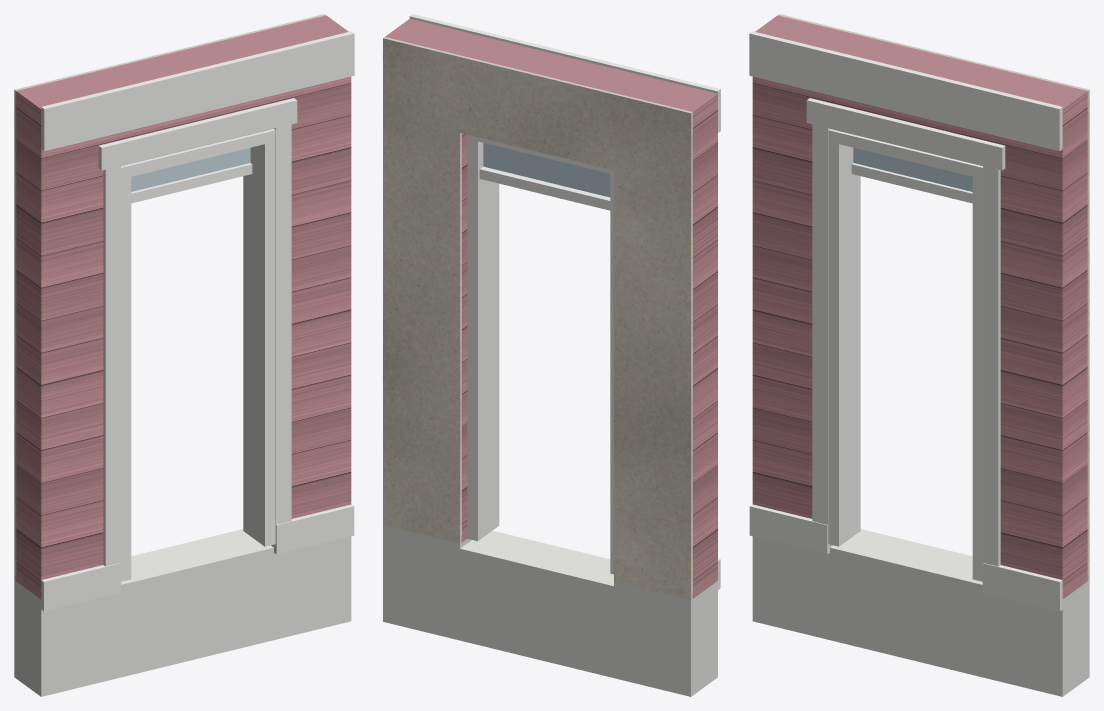
Rendered from wall_a_door_back.glb.
3 renders of one model, left to right at view 1: azimuth 30°, elevation 25°; view 2: azimuth 150°, elevation 25°; view 3: azimuth 330°, elevation 25°, orthographic.
Visible parts, largest first — view 1: wall_a_door_back_siding_a, wall_a_door_back_trim, wall_a_door_back_lattice, wall_a_door_back_frame, wall_a_door_back_plaster, wall_a_door_back_glass; view 2: wall_a_door_back_plaster, wall_a_door_back_lattice, wall_a_door_back_siding_a, wall_a_door_back_frame, wall_a_door_back_glass, wall_a_door_back_trim; view 3: wall_a_door_back_siding_a, wall_a_door_back_trim, wall_a_door_back_lattice, wall_a_door_back_frame, wall_a_door_back_plaster, wall_a_door_back_glass.
Part boxes in pixels (x1,y1,x2,y2): wall_a_door_back_siding_a: (16,15,351,599); wall_a_door_back_trim: (41,31,354,611); wall_a_door_back_lattice: (14,529,351,696); wall_a_door_back_frame: (121,129,275,581); wall_a_door_back_plaster: (14,14,325,580); wall_a_door_back_glass: (131,147,250,191); wall_a_door_back_plaster: (383,37,692,599); wall_a_door_back_lattice: (383,525,717,696); wall_a_door_back_siding_a: (385,19,717,598); wall_a_door_back_frame: (467,134,613,574); wall_a_door_back_glass: (483,143,610,197); wall_a_door_back_trim: (409,14,720,589); wall_a_door_back_siding_a: (752,15,1087,599); wall_a_door_back_trim: (749,31,1062,611); wall_a_door_back_lattice: (752,529,1089,696); wall_a_door_back_frame: (828,129,982,581); wall_a_door_back_plaster: (778,14,1089,580); wall_a_door_back_glass: (853,147,972,191).
Size of the model in its own units: 2 by 3.63 by 0.335.
Materials: 6 (2 with a texture image).
